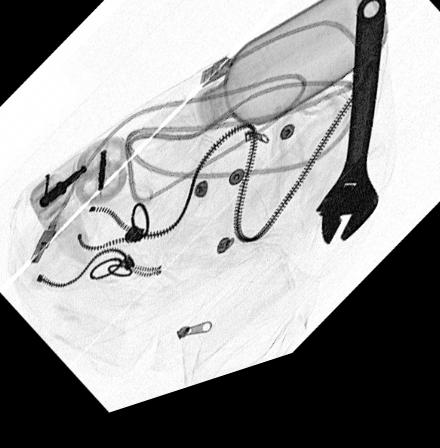Wrench: (314, 14, 387, 269)
